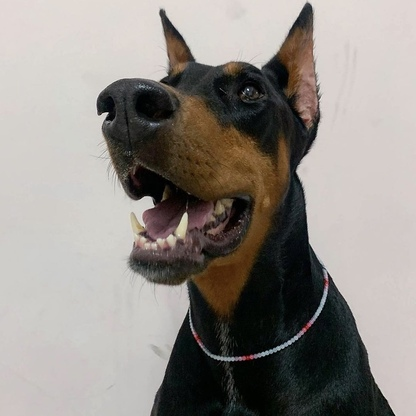doberman: (81, 4, 411, 416)
